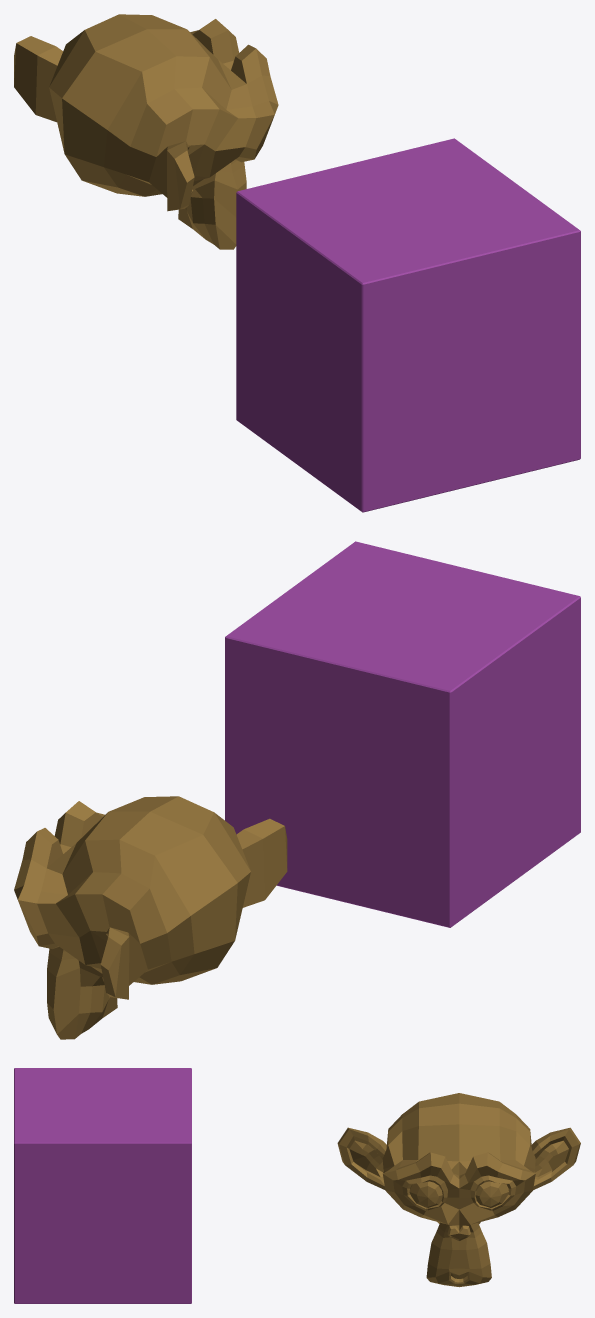
The model's file is getting_started_scene.gltf.
3 views of the same model, one above another, from view 1: azimuth 30°, elevation 25°; view 2: azimuth 150°, elevation 25°; view 3: azimuth 270°, elevation 25° (orthographic). The views are drawn at different scales.
Parts seen in each view (by area): view 1: cube, suzanne; view 2: cube, suzanne; view 3: cube, suzanne.
Boxes of the visible parts, bbox=[...] form: cube: bbox=[236, 138, 580, 512]; suzanne: bbox=[14, 14, 278, 249]; cube: bbox=[225, 541, 580, 927]; suzanne: bbox=[14, 796, 287, 1039]; cube: bbox=[14, 1068, 191, 1303]; suzanne: bbox=[337, 1093, 580, 1287].
Bounding box in the file's own units: 2 × 2 × 6.37.
